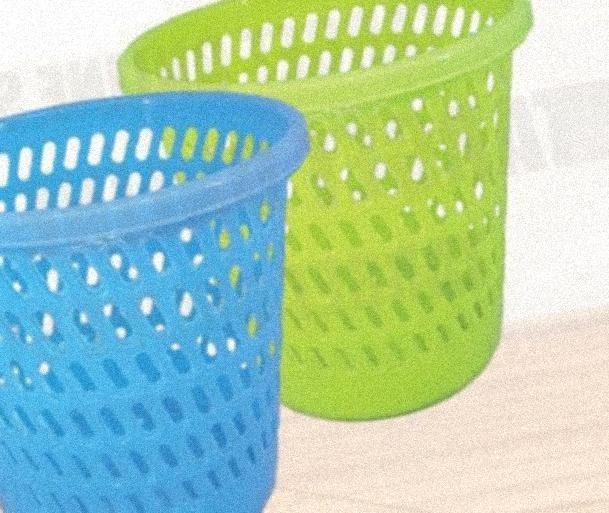Bote de Basura: (127, 0, 518, 447), (0, 85, 301, 512)
